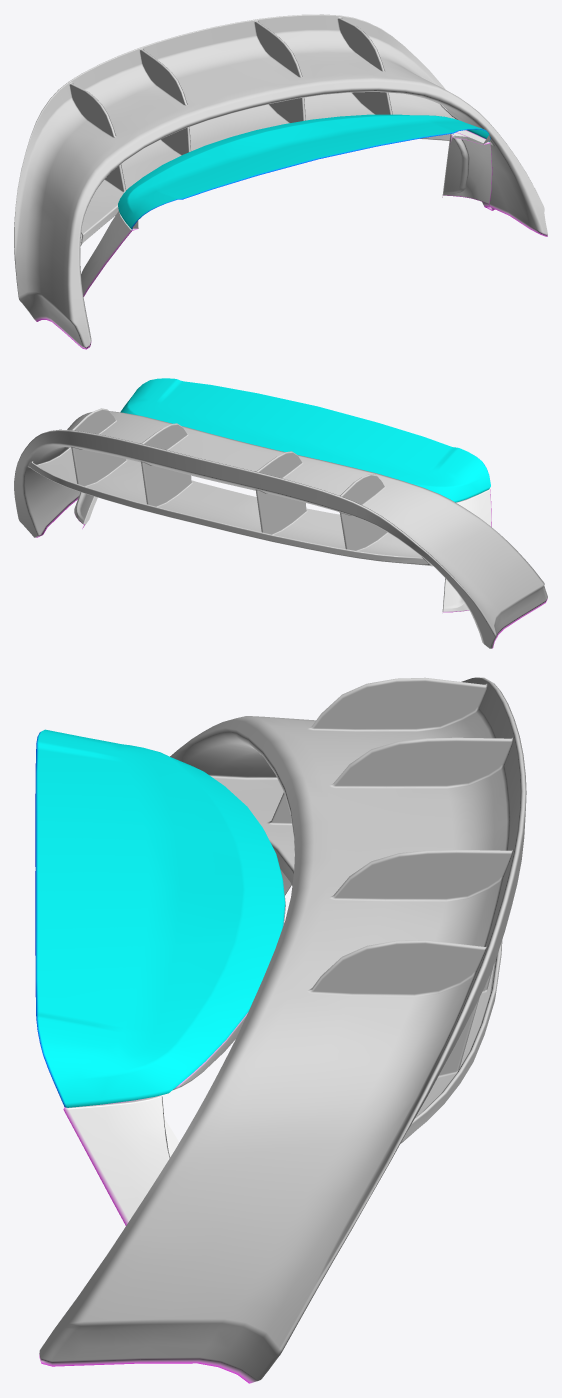
The model's file is Car_Mini_CountrymanJCW_2017_Spoiler_SetC_AltA.fbx.
3 renders of one model, top to bottom at view 1: azimuth 30°, elevation 25°; view 2: azimuth 150°, elevation 25°; view 3: azimuth 270°, elevation 25°, orthographic. The views are drawn at different scales.
Visible parts, largest first — view 1: Spoiler 6; view 2: Spoiler 6; view 3: Spoiler 6.
Part boxes in pixels (x1,y1,x2,y2): Spoiler 6: [14, 14, 547, 349]; Spoiler 6: [14, 378, 547, 648]; Spoiler 6: [35, 677, 526, 1383].
Bounding box in the file's own units: 1.53 × 0.5678 × 0.6822.
